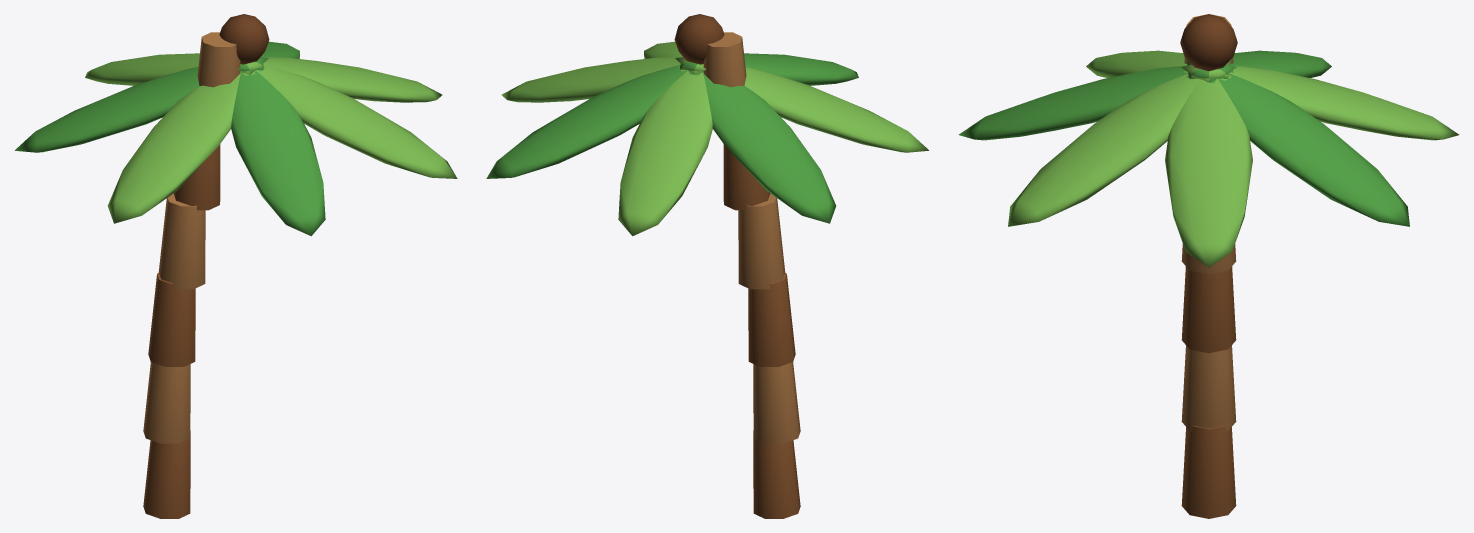
File: palm.glb
The picture shows the model from 3 angles, left to right: view 1: azimuth 30°, elevation 25°; view 2: azimuth 150°, elevation 25°; view 3: azimuth 270°, elevation 25°; orthographic projection. The views are drawn at different scales.
Parts seen in each view (by area): view 1: palm; view 2: palm; view 3: palm.
Boxes of the visible parts, left/top/right/bottom form: palm: left=15, top=14, right=457, bottom=518; palm: left=486, top=14, right=928, bottom=518; palm: left=958, top=14, right=1459, bottom=518.
Size of the model in its own units: 3.05 by 3.67 by 3.13.
